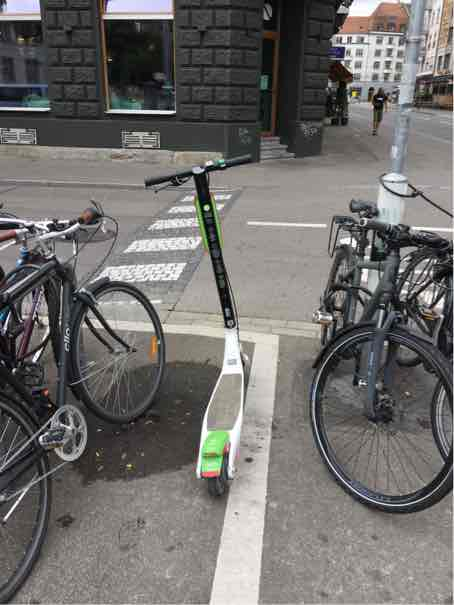scooter: (140, 160, 267, 500)
